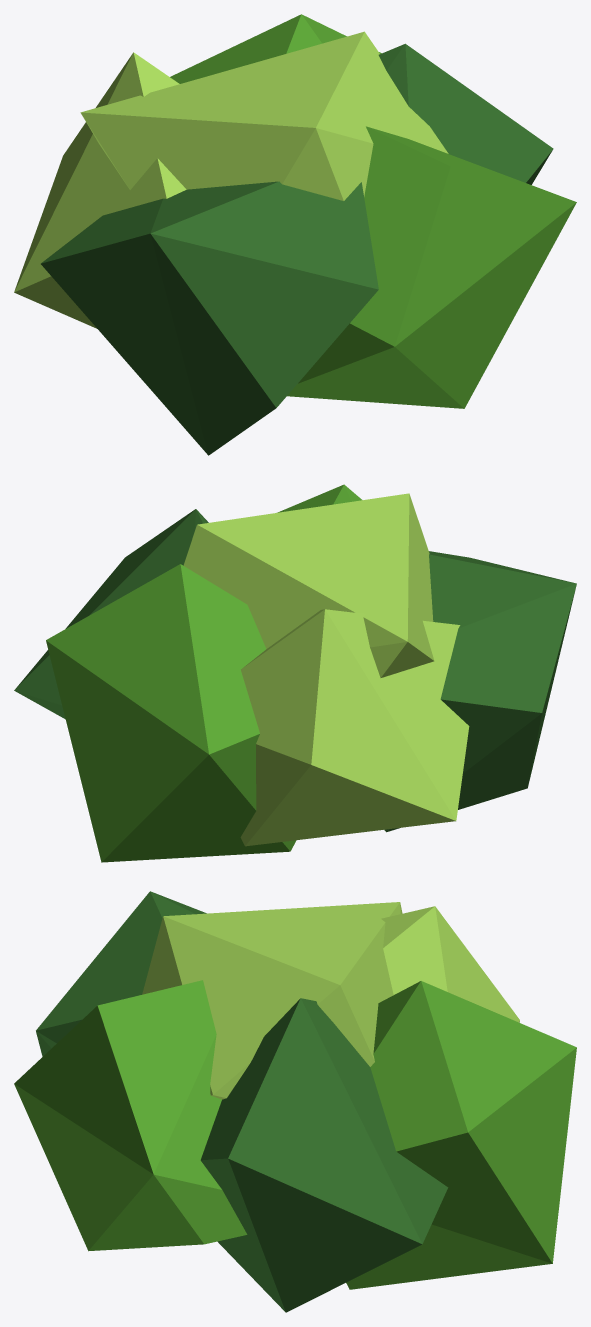
Rendered from bush_3_lod2.glb.
3 views of the same model, one above another, from view 1: azimuth 30°, elevation 25°; view 2: azimuth 150°, elevation 25°; view 3: azimuth 270°, elevation 25° (orthographic). The views are drawn at different scales.
Parts seen in each view (by area): view 1: bush_3_lod2; view 2: bush_3_lod2; view 3: bush_3_lod2.
Part boxes in pixels (x1,y1,x2,y2): bush_3_lod2: (14, 14, 576, 455); bush_3_lod2: (14, 484, 576, 862); bush_3_lod2: (14, 891, 576, 1312).
Size of the model in its own units: 1.99 by 1.18 by 1.94.
